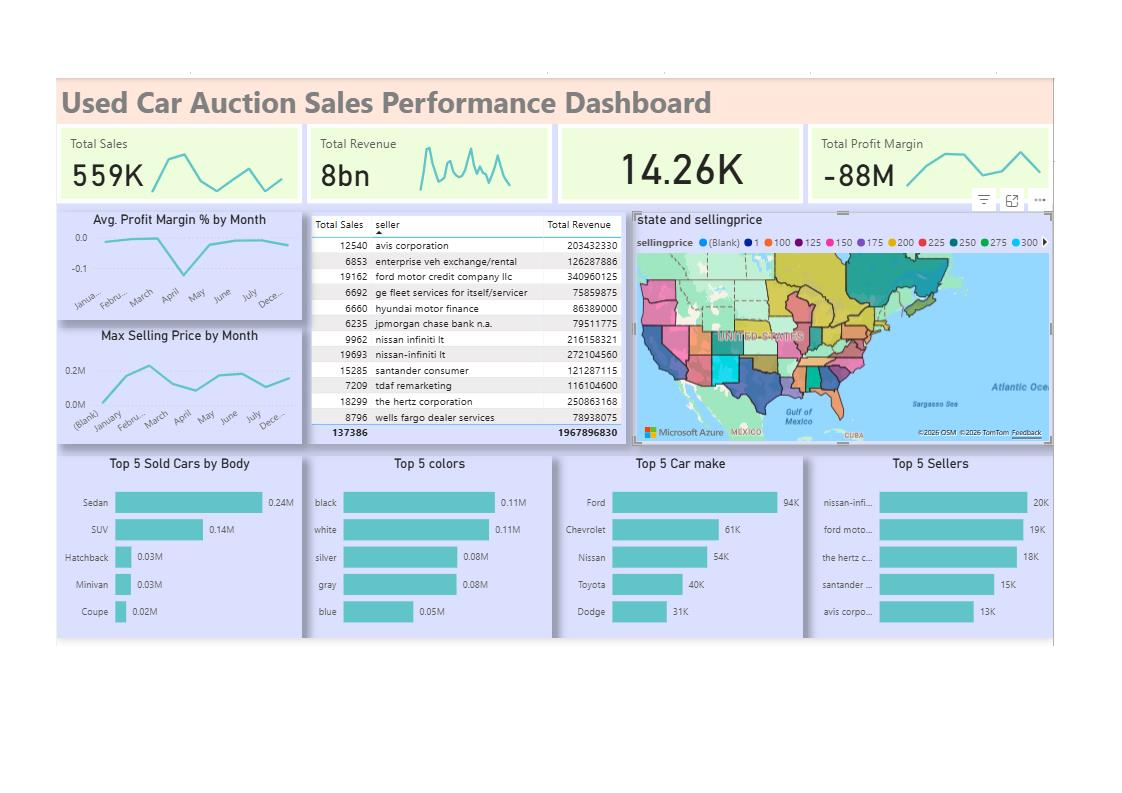

The dashboard page shown, as its layout file describes it:
{"tool":"powerbi","page":{"name":"Page 1","canvas":[1280,720],"ordinal":0},"visuals":[{"type":"group","id":"g1","title":"Group 1","box":[0,59.1,314.9,101.5],"z":0},{"type":"cardVisual","fields":{"Data":["All Measures.Total Sales"]},"box":[0,59.1,314.9,101.5],"z":0,"group":"g1"},{"type":"cardVisual","fields":{"Data":["All Measures.Total Revenue"]},"box":[321.7,59.1,314.9,101.5],"z":0,"group":"g2"},{"type":"card","fields":{"Values":["Count(Car.seller)"]},"box":[643.4,59.1,314.9,101.5],"z":0,"group":"g3"},{"type":"cardVisual","title":"Price Variance to MMR","fields":{"Data":["All Measures.Total Profit Margin"]},"box":[965.1,59.1,314.9,101.5],"z":0,"group":"g4"},{"type":"textbox","box":[0,0,1280,59.1],"z":1000},{"type":"lineChart","fields":{"Category":["Car.saledate.1.Variation.Date Hierarchy.Day"],"Y":["All Measures.Total Revenue"]},"box":[449.3,65.4,182.5,86.1],"z":1000,"group":"g2"},{"type":"lineChart","fields":{"Category":["Car.saledate.1.Variation.Date Hierarchy.Month"],"Y":["All Measures.Total Sales"]},"box":[108.7,73.1,192.2,78.8],"z":1000,"group":"g1"},{"type":"lineChart","fields":{"Category":["Car.saledate.1.Variation.Date Hierarchy.Month"],"Y":["All Measures.Total Profit Margin"]},"box":[1078,80.8,199.2,70.7],"z":1000,"group":"g4"},{"type":"group","id":"g2","title":"Group 1","box":[321.7,59.1,314.9,101.5],"z":2000},{"type":"group","id":"g3","title":"Group 1","box":[643.4,59.1,314.9,101.5],"z":3000},{"type":"group","id":"g4","title":"Group 1","box":[965.1,59.1,314.9,101.5],"z":4000},{"type":"lineChart","title":"Max Selling Price by Month","fields":{"Category":["Car.saledate.1.Variation.Date Hierarchy.Month"],"Y":["Max(Car.sellingprice)"]},"box":[0,321.3,314.9,149.1],"z":5000},{"type":"clusteredBarChart","title":"Top 5 Sold Cars by Body","fields":{"Category":["Car.body"],"Y":["All Measures.Total Sales"]},"box":[0,485.8,314.9,233.9],"z":6000},{"type":"clusteredBarChart","title":"Top 5 colors","fields":{"Category":["Car.color"],"Y":["All Measures.Total Sales"]},"box":[321.7,485.8,314.9,233.9],"z":7000},{"type":"clusteredBarChart","title":"Top 5 Car make","fields":{"Category":["Car.make"],"Y":["All Measures.Total Sales"]},"box":[643.4,485.8,314.9,233.9],"z":8000},{"type":"clusteredBarChart","title":"Top 5 Sellers","fields":{"Category":["Car.seller"],"Y":["All Measures.Total Sales"]},"box":[965.1,485.8,314.9,233.9],"z":9000},{"type":"azureMap","fields":{"Category":["Car.state"],"Series":["Car.sellingprice"]},"box":[740.2,172.2,539.8,299.4],"z":10000},{"type":"tableEx","fields":{"Values":["All Measures.Total Sales","Car.seller","All Measures.Total Revenue"]},"box":[321.3,172.2,410,298.2],"z":11000},{"type":"lineChart","fields":{"Category":["Car.saledate.1.Variation.Date Hierarchy.Month"],"Y":["All Measures.Avg. Profit Margin %"]},"box":[0,172.2,314.9,138.8],"z":12000}]}

Visuals, with their boxes on the page's 1280x720 design canvas (x1, y1, x2, y2). These are canvas units, not pixel positions in the 1122x793 screenshot, which may show the page scaled, cropped or inside an application window:
"Group 1" group: (0, 59, 315, 161)
cardVisual - All Measures.Total Sales: (0, 59, 315, 161)
cardVisual - All Measures.Total Revenue: (322, 59, 637, 161)
card - Count(Car.seller): (643, 59, 958, 161)
"Price Variance to MMR" cardVisual: (965, 59, 1280, 161)
textbox: (0, 0, 1280, 59)
lineChart - Car.saledate.1.Variation.Date Hierarchy.Day x All Measures.Total Revenue: (449, 65, 632, 152)
lineChart - Car.saledate.1.Variation.Date Hierarchy.Month x All Measures.Total Sales: (109, 73, 301, 152)
lineChart - Car.saledate.1.Variation.Date Hierarchy.Month x All Measures.Total Profit Margin: (1078, 81, 1277, 152)
"Group 1" group: (322, 59, 637, 161)
"Group 1" group: (643, 59, 958, 161)
"Group 1" group: (965, 59, 1280, 161)
"Max Selling Price by Month" lineChart: (0, 321, 315, 470)
"Top 5 Sold Cars by Body" clusteredBarChart: (0, 486, 315, 720)
"Top 5 colors" clusteredBarChart: (322, 486, 637, 720)
"Top 5 Car make" clusteredBarChart: (643, 486, 958, 720)
"Top 5 Sellers" clusteredBarChart: (965, 486, 1280, 720)
azureMap - Car.state x Car.sellingprice: (740, 172, 1280, 472)
tableEx - All Measures.Total Sales x Car.seller: (321, 172, 731, 470)
lineChart - Car.saledate.1.Variation.Date Hierarchy.Month x All Measures.Avg. Profit Margin %: (0, 172, 315, 311)
